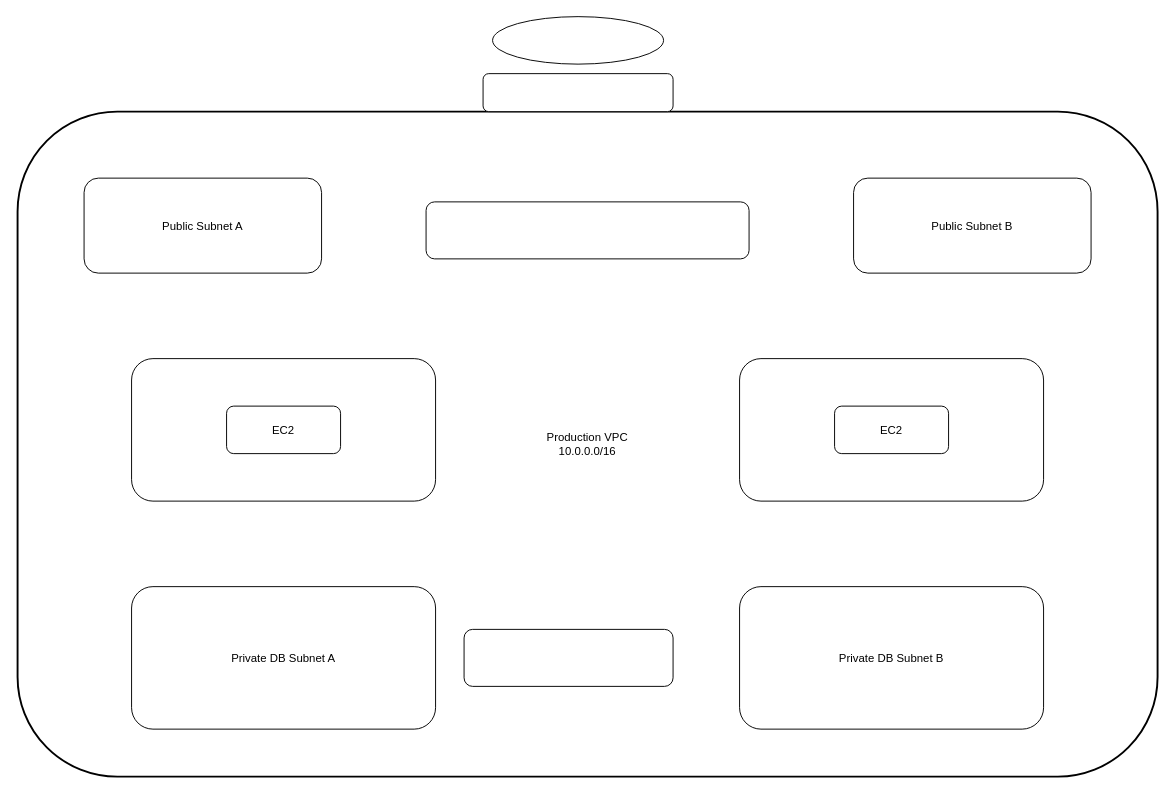
Some shapes in this 1174 by 794 pixel diagram are drawn without their labels. The centre of each missing label's shape, as x and y in pixels:
"Application Load Balancer" belongs at point 587,230.
"Internet Gateway" belongs at point 577,92.
"PostgreSQL RDS" belongs at point 568,657.
"🌍 Internet" belongs at point 578,40.
